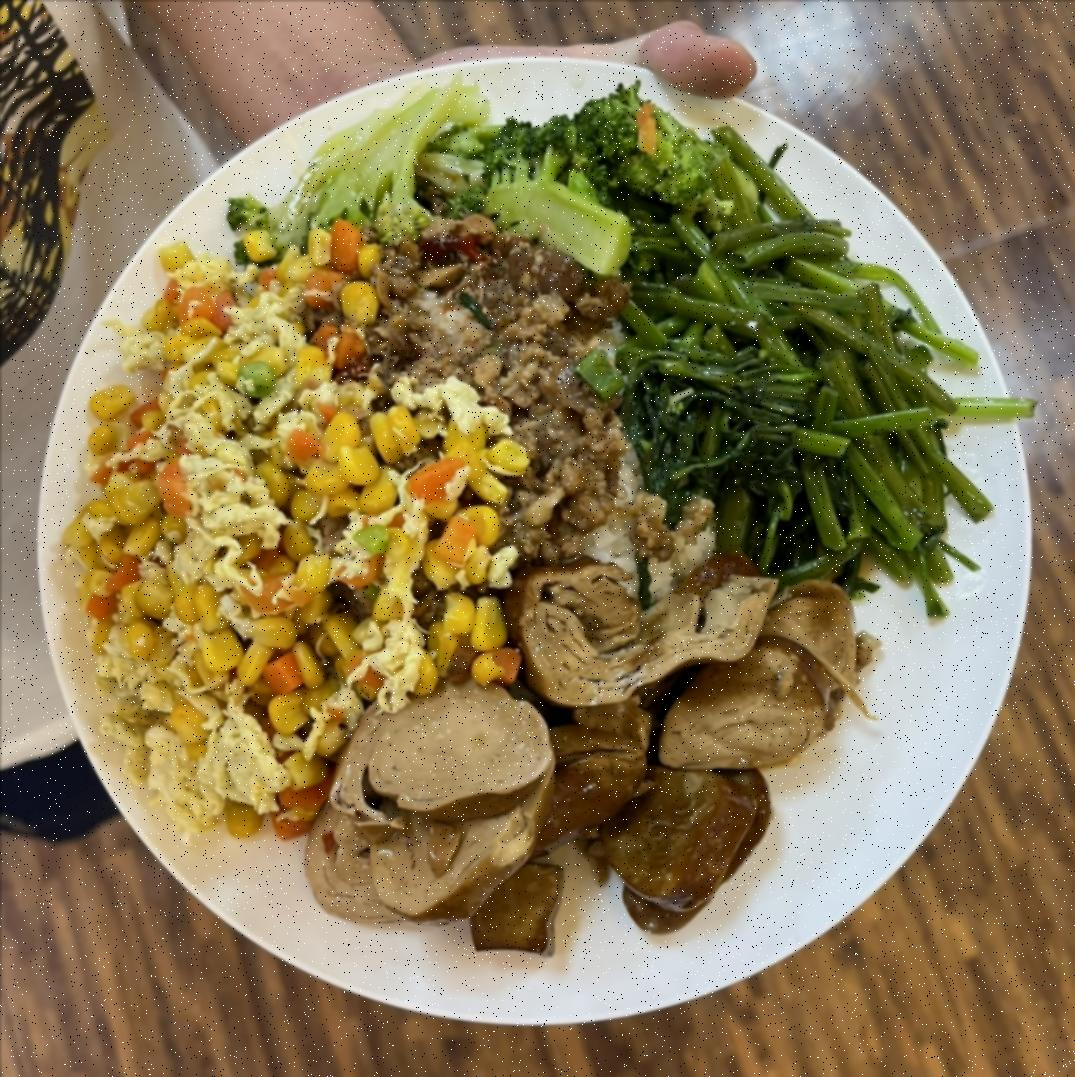plate: (15, 30, 1060, 1052)
side dish: (67, 240, 504, 847), (298, 561, 872, 965), (624, 195, 984, 600), (276, 68, 786, 260)
stir-fried minced pork: (370, 220, 651, 569)
